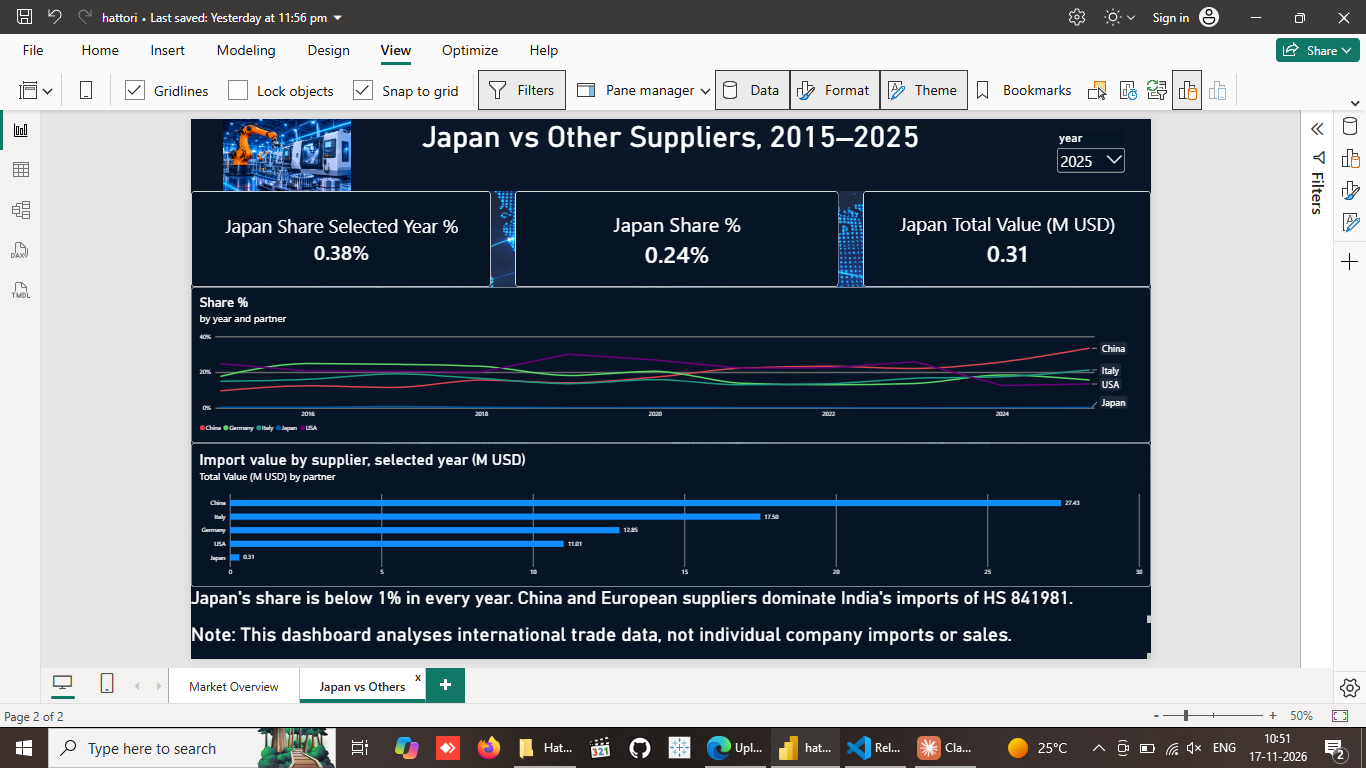

What the dashboard file says about the page in this screenshot:
{"tool":"powerbi","page":{"name":"Japan vs Others","canvas":[1920,1080],"ordinal":1},"visuals":[{"type":"textbox","title":"Japan vs Other Suppliers, 2015–2025","box":[0,0,1920,144],"z":0},{"type":"slicer","fields":{"Values":["Imports.year"]},"box":[1728,24,144,120],"z":1000},{"type":"cardVisual","fields":{"Data":["Imports.Japan Total Value (M USD)"]},"box":[1344,144,576,192],"z":2000},{"type":"cardVisual","fields":{"Data":["Imports.Japan Share %"]},"box":[648,144,648,192],"z":3000},{"type":"lineChart","fields":{"Category":["Imports.year"],"Series":["Imports.partner"],"Y":["Imports.Share %"]},"box":[0,336,1920,312],"z":5000},{"type":"clusteredBarChart","title":"Import value by supplier, selected year (M USD)","fields":{"Category":["Imports.partner"],"Y":["Imports.Total Value (M USD)"]},"box":[0,648,1920,288],"z":6000},{"type":"textbox","title":"Japan''s share is below 1% in every year. China and European suppliers dominate India''s imports of HS 841981.","box":[0,936,1920,72],"z":8000},{"type":"textbox","title":"Note: This dashboard analyses international trade data, not individual company imports or sales.","box":[0,1008,1920,72],"z":9000},{"type":"image","box":[48,0,288,144],"z":9001},{"type":"cardVisual","fields":{"Data":["Imports.Japan Share Selected Year %"]},"box":[0,144,600,192],"z":9002}]}

Visuals, with their boxes on the page's 1920x1080 design canvas (x1, y1, x2, y2). These are canvas units, not pixel positions in the 1366x768 screenshot, which may show the page scaled, cropped or inside an application window:
"Japan vs Other Suppliers, 2015–2025" textbox: (0, 0, 1920, 144)
slicer - Imports.year: (1728, 24, 1872, 144)
cardVisual - Imports.Japan Total Value (M USD): (1344, 144, 1920, 336)
cardVisual - Imports.Japan Share %: (648, 144, 1296, 336)
lineChart - Imports.year x Imports.partner: (0, 336, 1920, 648)
"Import value by supplier, selected year (M USD)" clusteredBarChart: (0, 648, 1920, 936)
"Japan''s share is below 1% in every year. China and European suppliers dominate India''s imports of HS 841981." textbox: (0, 936, 1920, 1008)
"Note: This dashboard analyses international trade data, not individual company imports or sales." textbox: (0, 1008, 1920, 1080)
image: (48, 0, 336, 144)
cardVisual - Imports.Japan Share Selected Year %: (0, 144, 600, 336)
